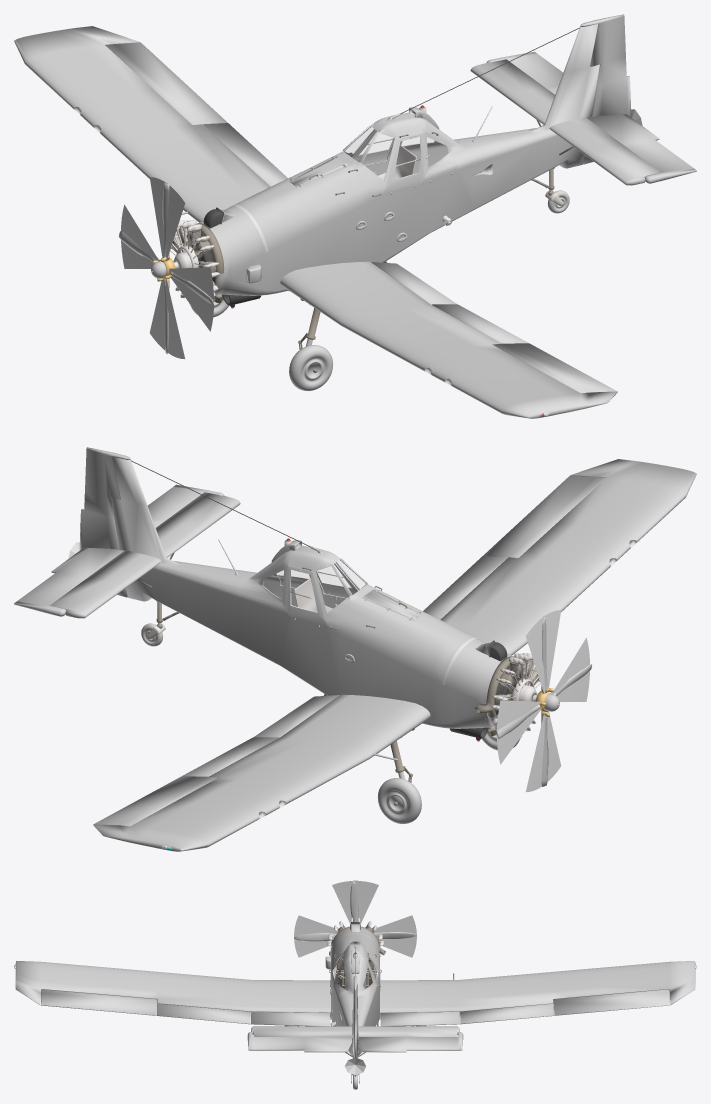
Rendered from Dromader_M18B_Dromader.glb.
3 renders of one model, top to bottom at view 1: azimuth 30°, elevation 25°; view 2: azimuth 150°, elevation 25°; view 3: azimuth 270°, elevation 25°, orthographic. The views are drawn at different scales.
Visible parts, largest first — view 1: airframe; view 2: airframe; view 3: airframe.
Boxes of the visible parts, <box> form: airframe: <box>14,14,696,418</box>; airframe: <box>14,447,696,851</box>; airframe: <box>14,880,696,1089</box>.
Size of the model in its own units: 9.58 by 4.76 by 17.77.
